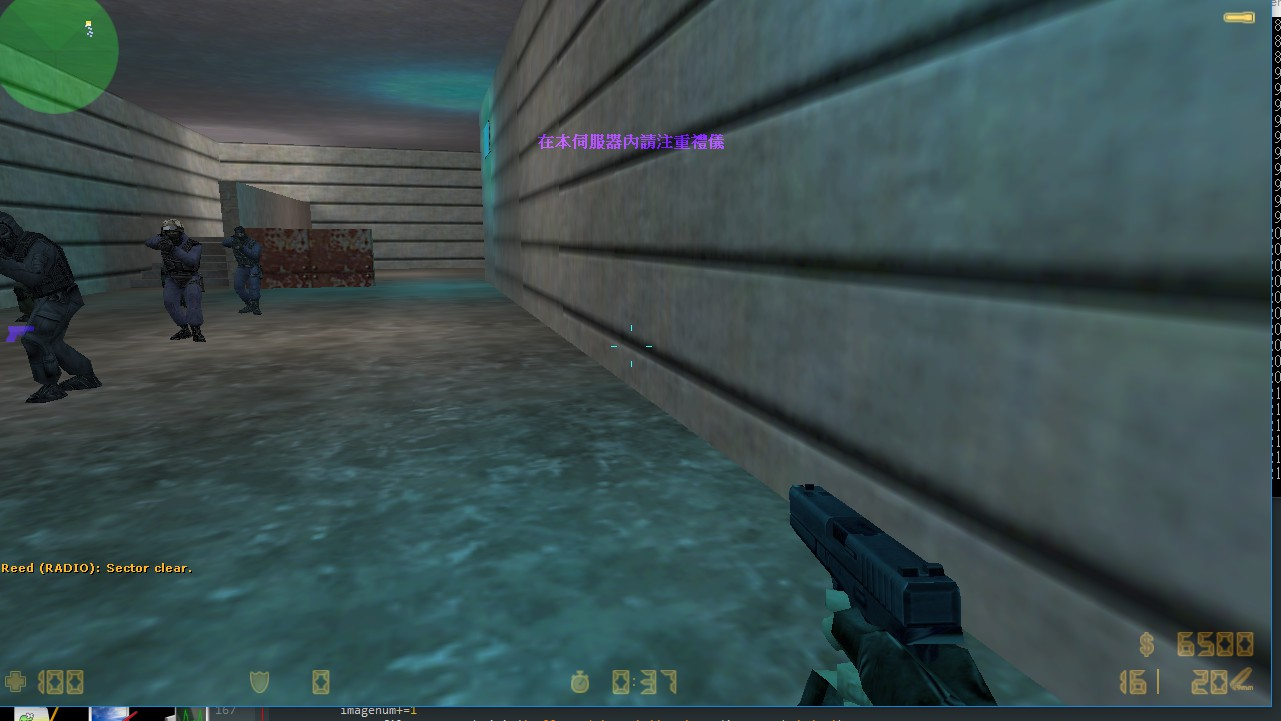person: (1, 206, 108, 409), (142, 217, 211, 347), (223, 220, 270, 322)
